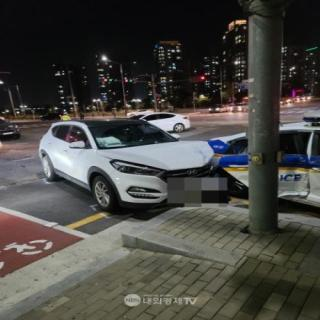Police_car: (202, 107, 320, 217)
